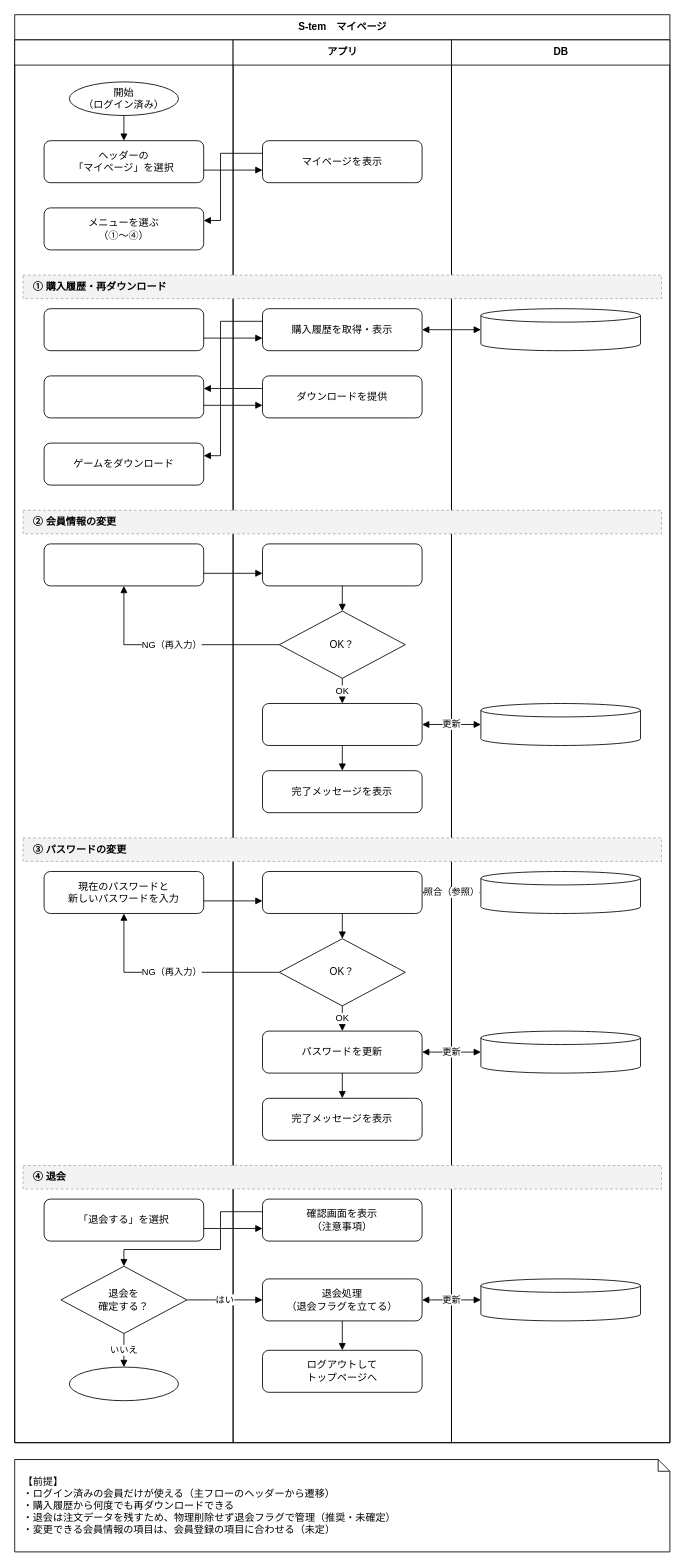
Image size: 685x1567. Some labels were removed from this diagram. Each missing label, with the box of its shape:
ゲームを選んで 再ダウンロード: (43, 375, 204, 418)
マイページへ戻る: (68, 1366, 178, 1401)
会員情報 （参照）: (480, 871, 640, 914)
会員情報 （更新）: (480, 703, 640, 746)
会員情報 （更新：パスワード）: (480, 1030, 640, 1073)
会員情報 （更新：退会フラグ）: (480, 1278, 640, 1321)
会員情報を更新: (262, 703, 422, 746)
会員情報を編集 （項目は未定）: (43, 543, 204, 586)
入力チェック: (262, 543, 422, 586)
利用者: (14, 39, 233, 1443)
注文・注文詳細 （参照）: (480, 308, 640, 351)
現在のパスワードを照合・ 新パスワードの形式チェック: (262, 871, 422, 914)
購入履歴を開く: (43, 308, 204, 351)
